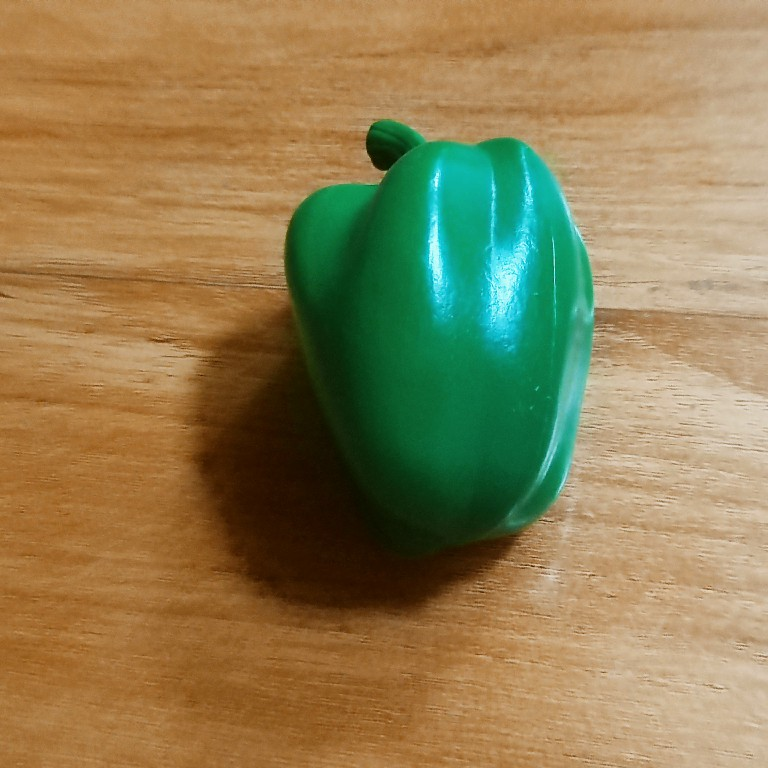fruit_pepper: (279, 110, 598, 552)
